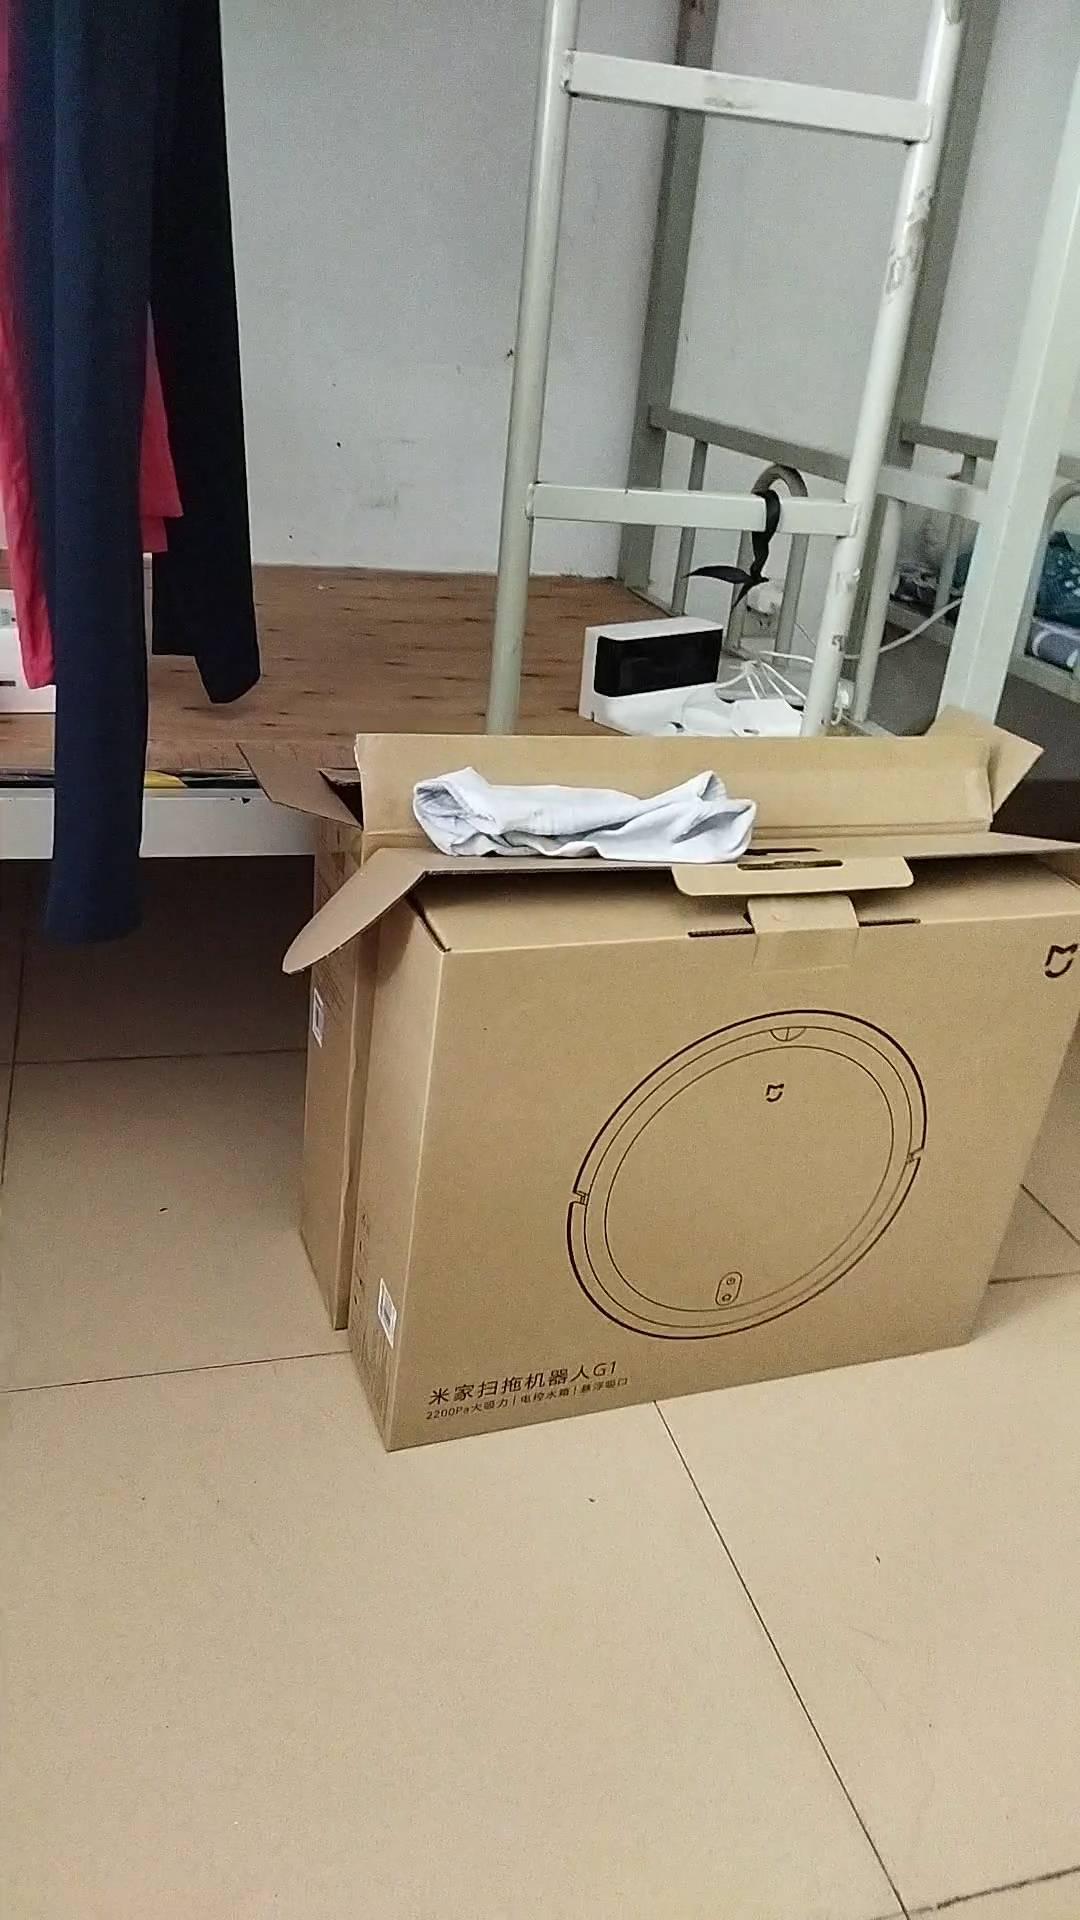recharge seat: (580, 615, 735, 738)
